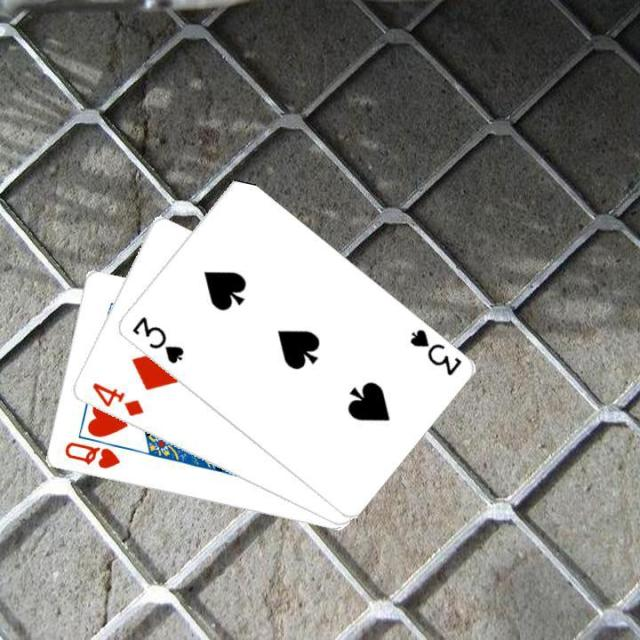3S: (127, 312, 186, 366), (405, 324, 463, 378)
4D: (87, 378, 145, 418)
QH: (60, 438, 122, 471)
